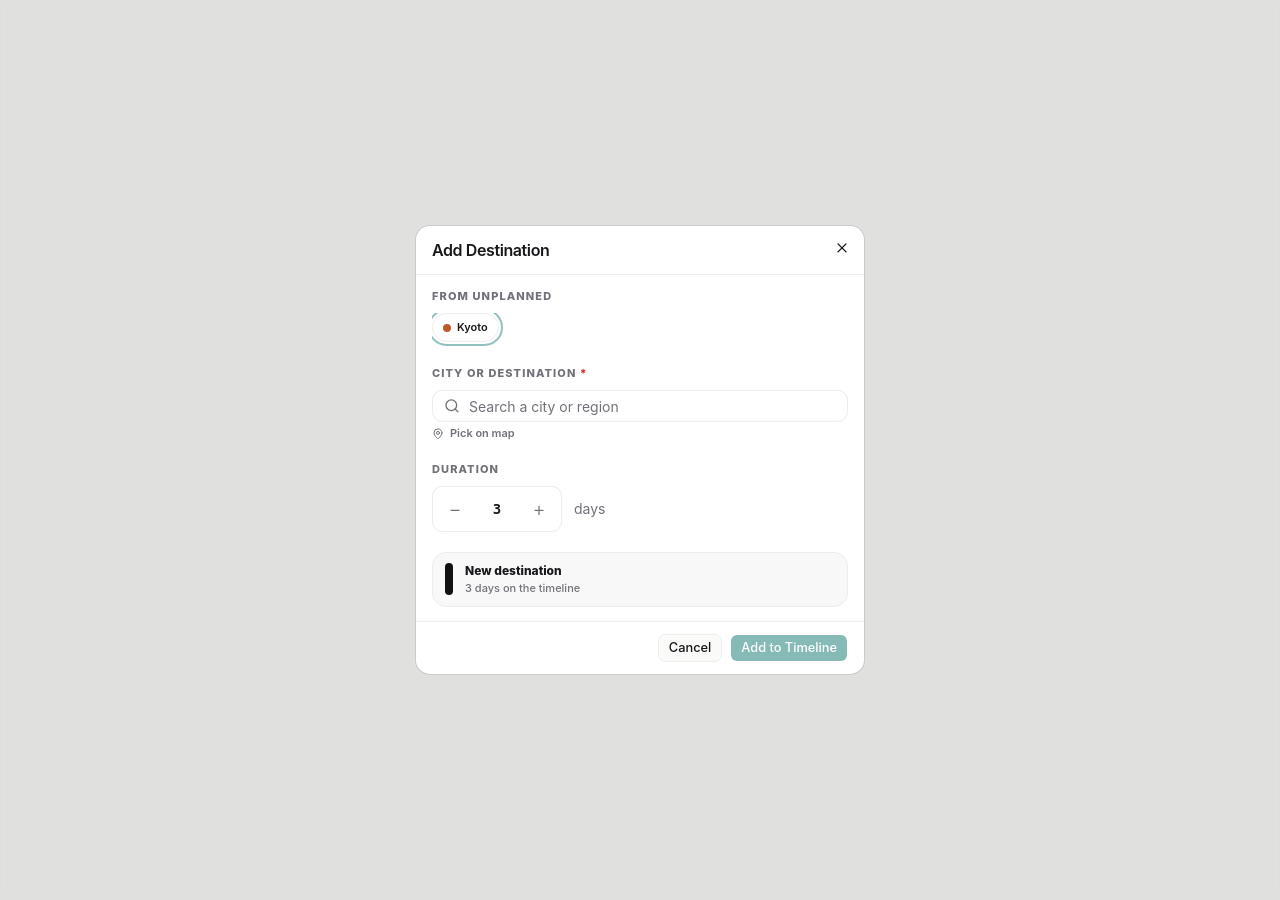
Scenario: AddStayModal — pick from unplanned › clears selection when the Clear button is pressed
Click the button "Kyoto". click: coordinates (465, 327)
box: [432,313,499,342]
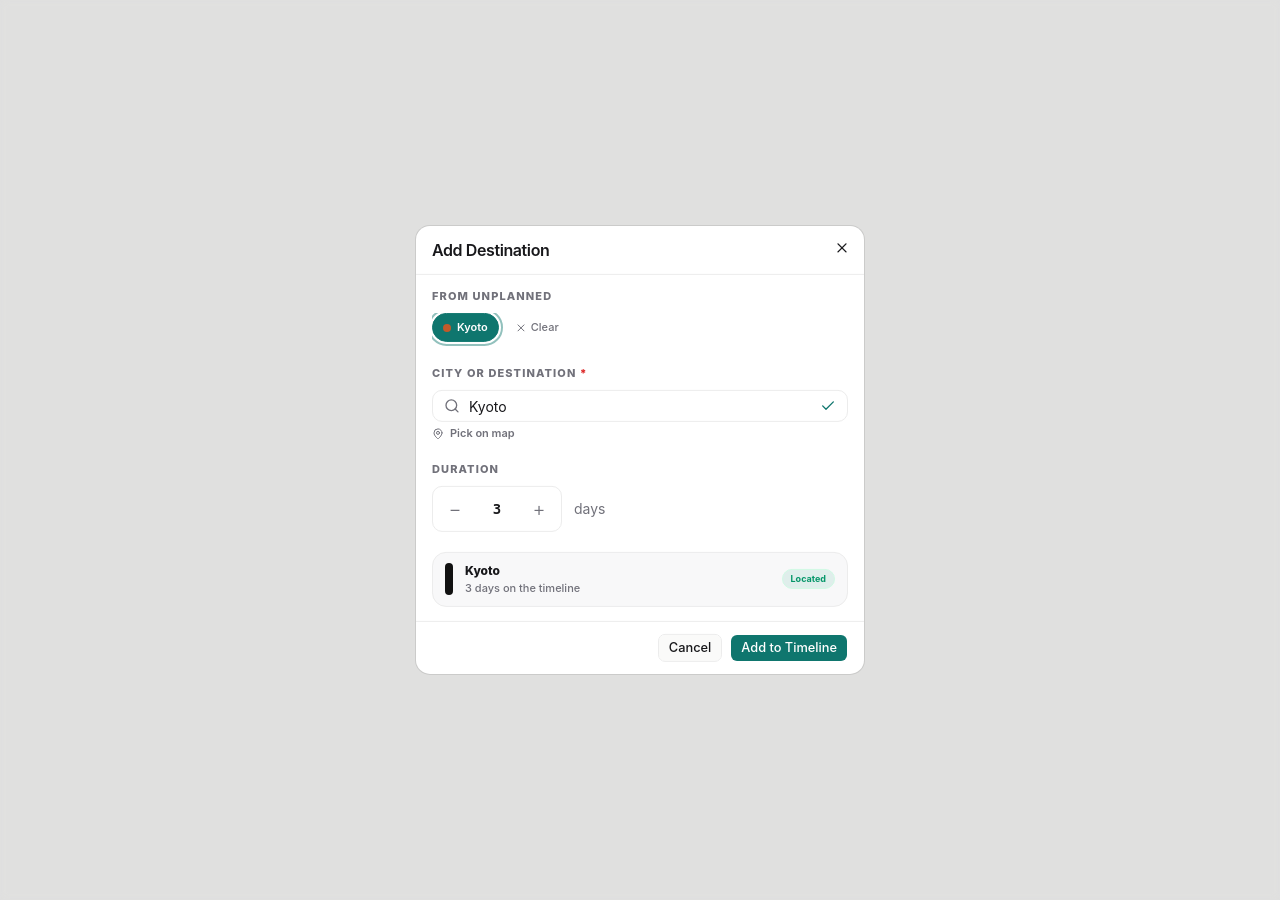
expect the field with placeholder "Search a city or region" holds "Kyoto": met, box [432,390,848,422]
Click the button with aria-label "Clear unplanned selection". click: coordinates (537, 327)
box: [507,313,567,342]
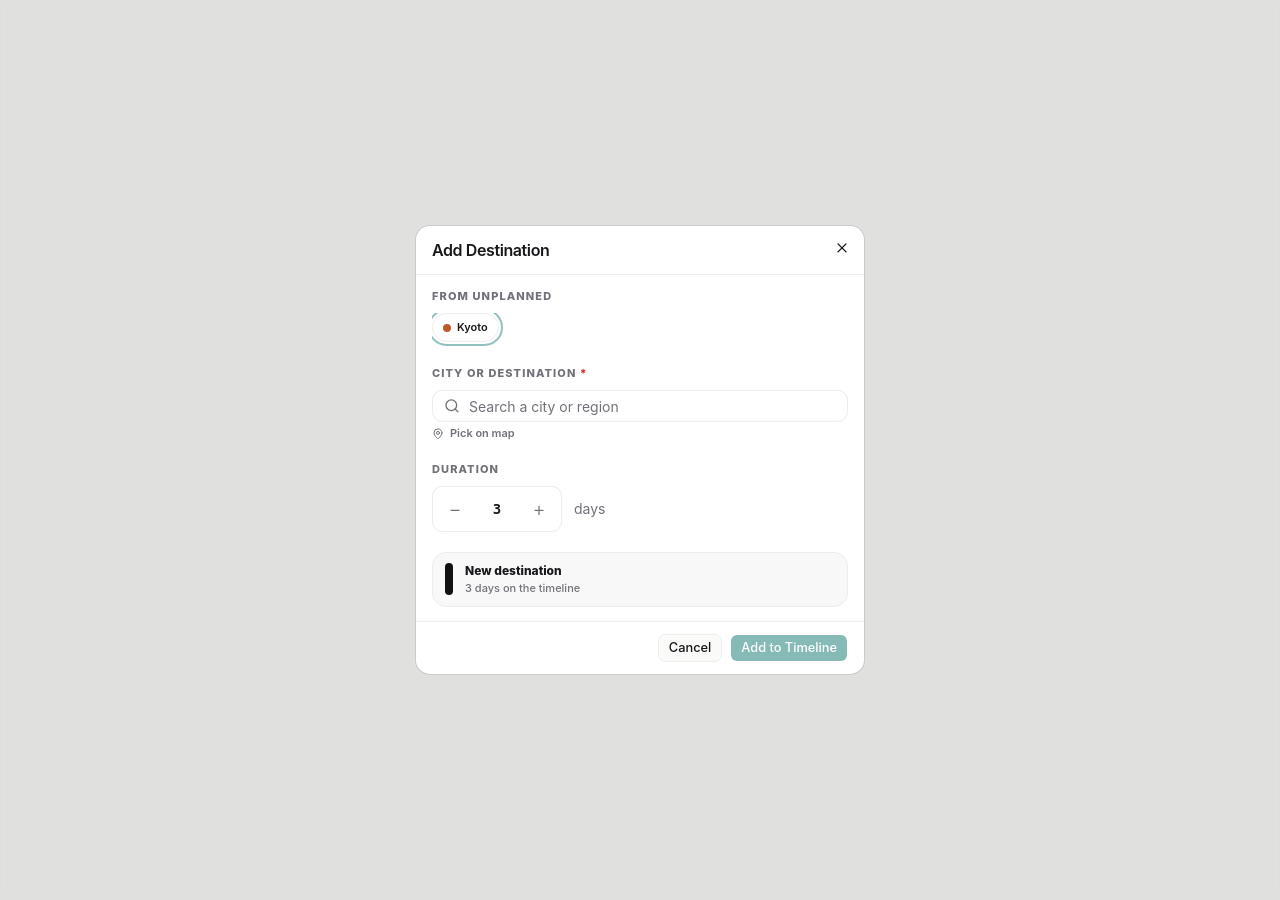
expect the field with placeholder "Search a city or region" is empty: met, box [432,390,848,422]
